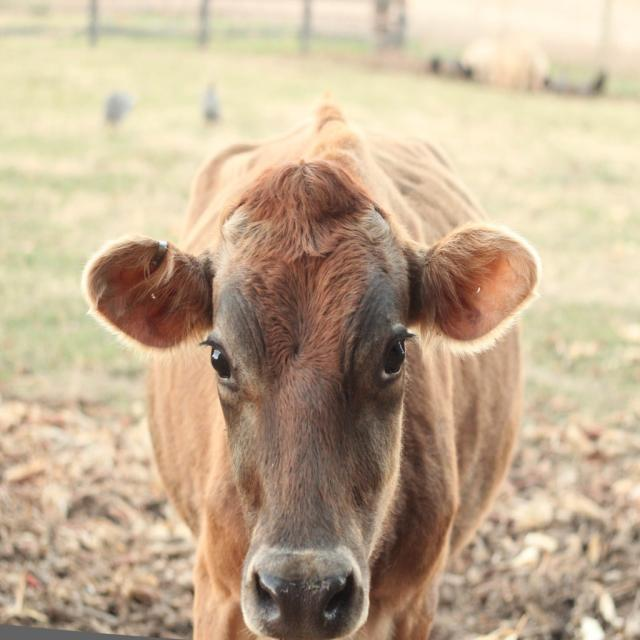Cattle: (80, 97, 542, 640)
